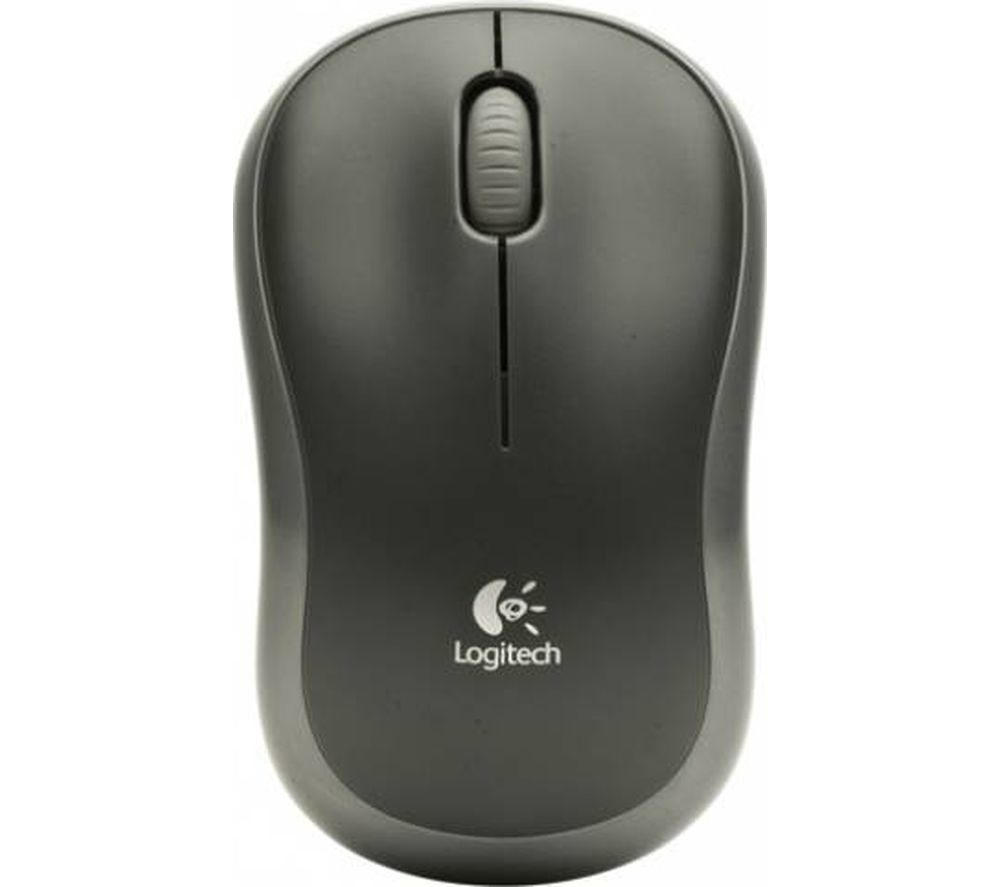logitech-mouse-m185: (234, 8, 789, 887)
